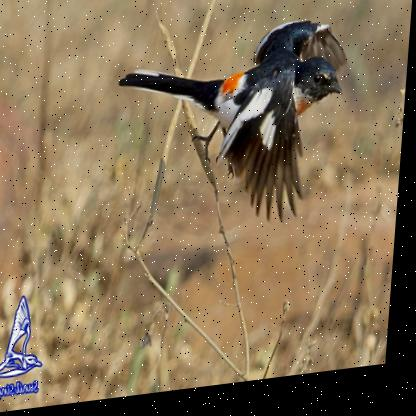Burung: (111, 25, 352, 247)
